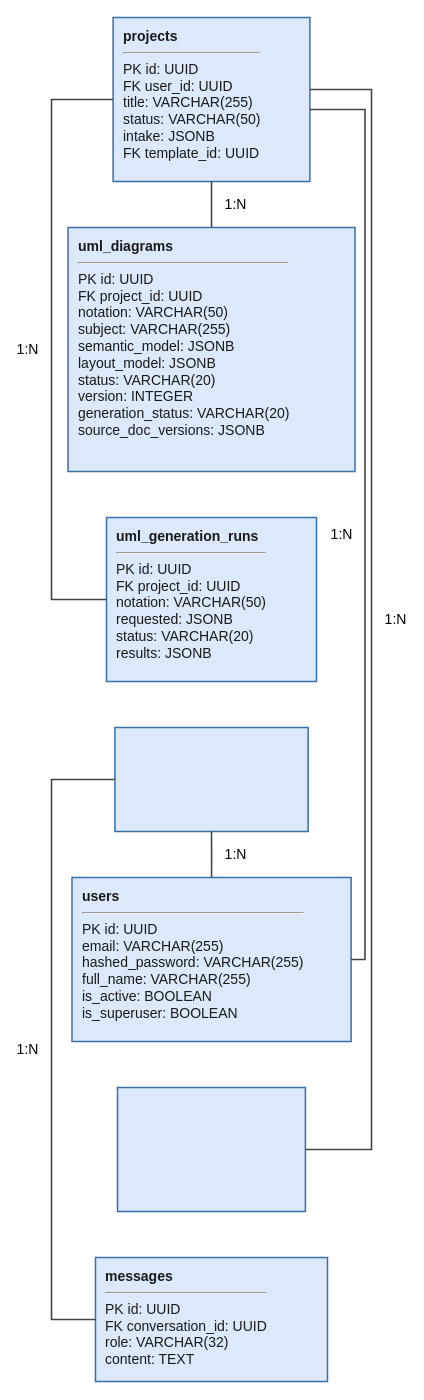
Some shapes in this 424 by 1400 pixel diagram are drawn without their labels. Each missing label, with the centre of its shape:
"conversations PK id: UUID FK user_id: UUID title: VARCHAR(255)" goes at point (211, 779).
"data_items PK id: UUID FK project_id: UUID name: VARCHAR(255) fields: JSONB" goes at point (211, 1149).
